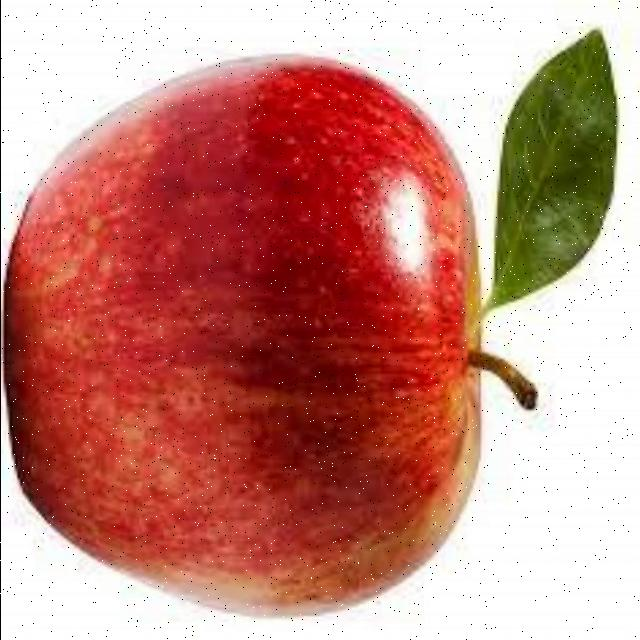HEALTHY: (14, 38, 514, 606)
